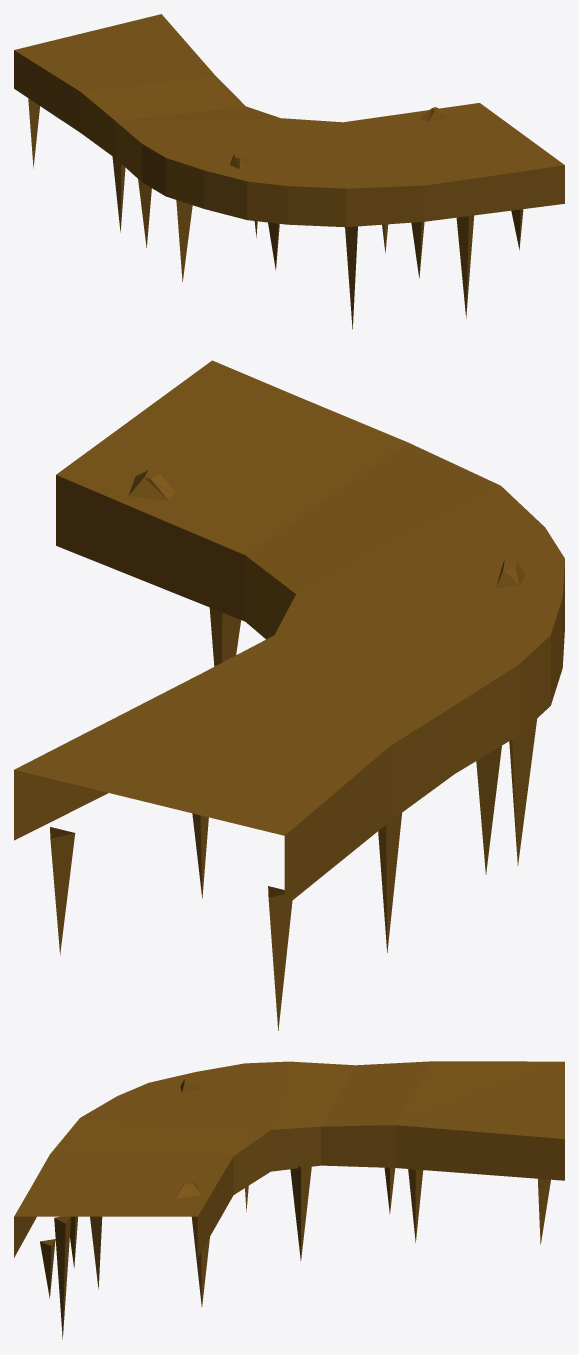
The model's file is obj_bridge_11_0.obj.
3 renders of one model, top to bottom at view 1: azimuth 30°, elevation 25°; view 2: azimuth 150°, elevation 25°; view 3: azimuth 270°, elevation 25°, orthographic. The views are drawn at different scales.
Size of the model in its own units: 2 by 1.05 by 3.
